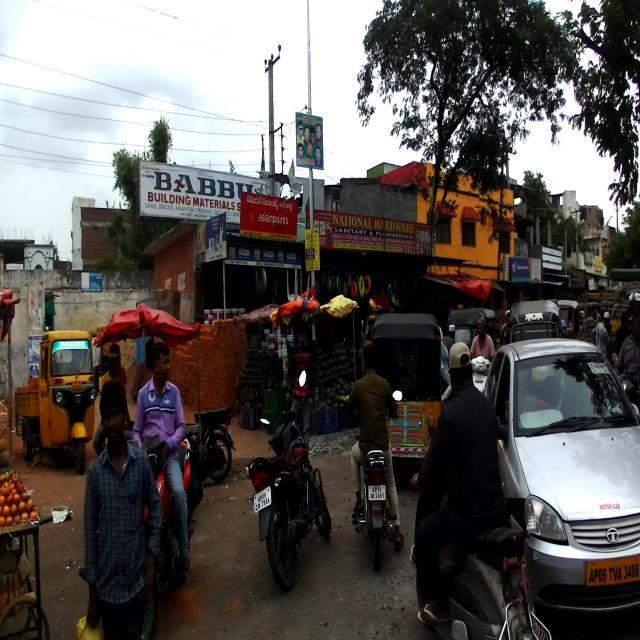autorickshaw: (371, 312, 441, 484), (14, 330, 97, 474)
car: (481, 338, 640, 640)
motorcycle: (246, 368, 331, 592), (127, 434, 209, 640), (351, 390, 402, 572), (180, 394, 237, 484)
scooter: (408, 478, 551, 640)
